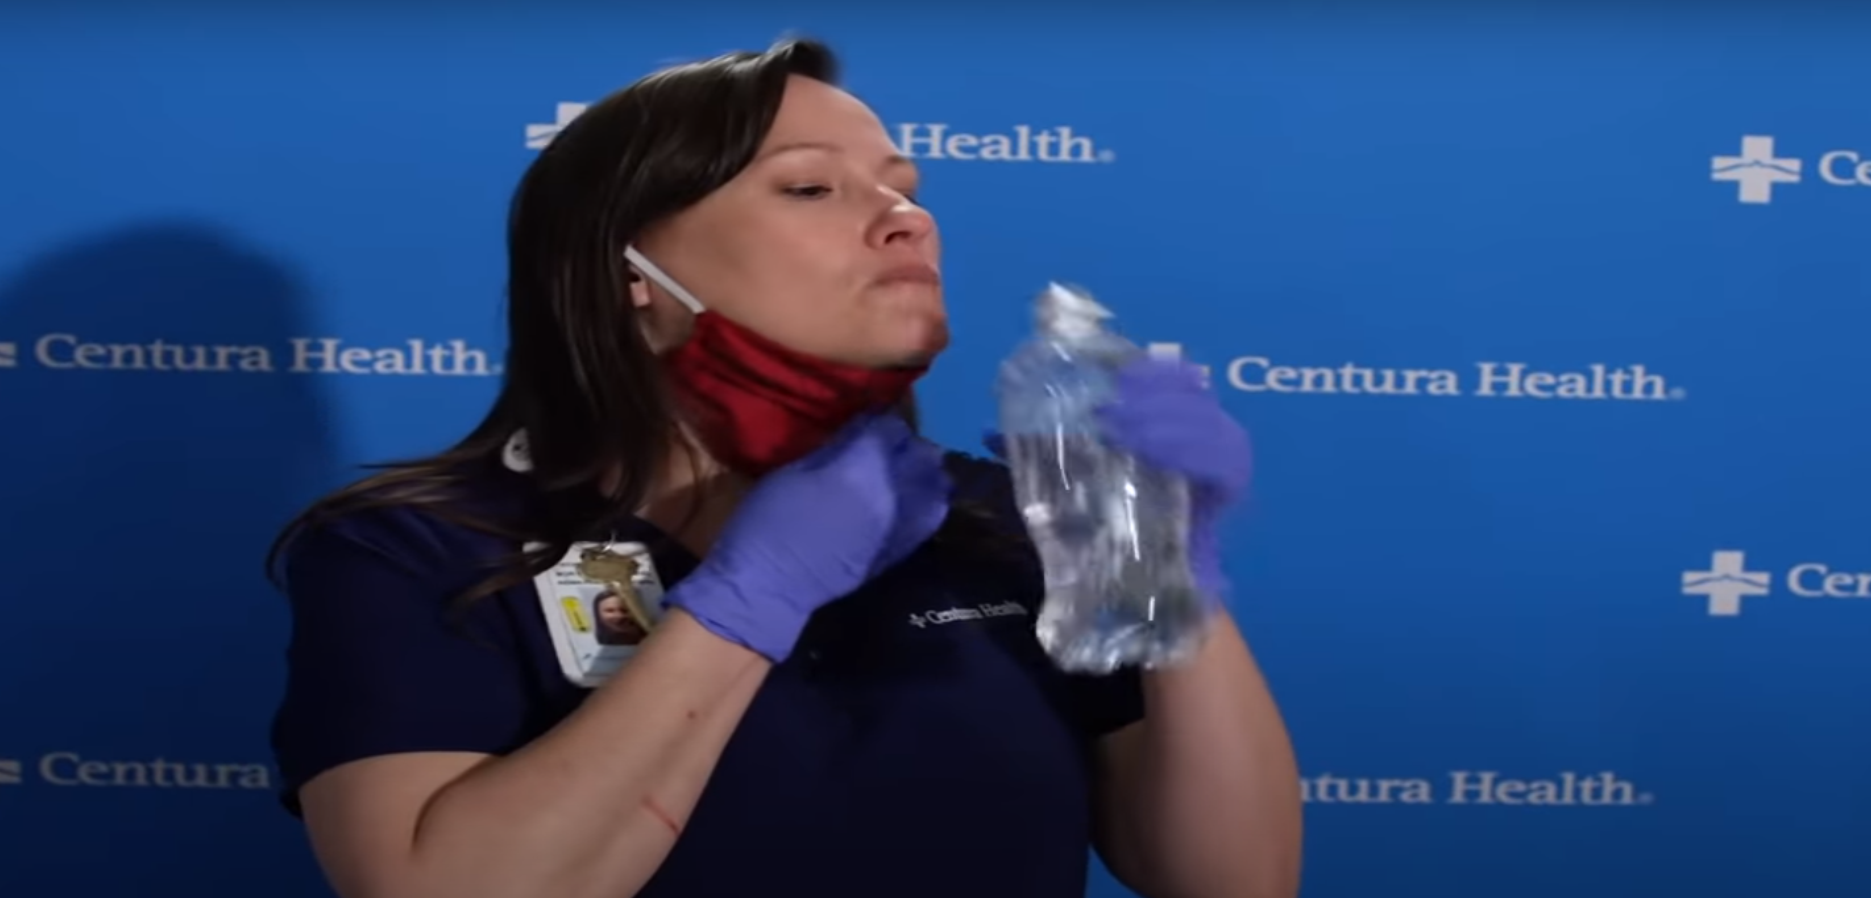mask_weared_incorrect: (511, 40, 950, 477)
